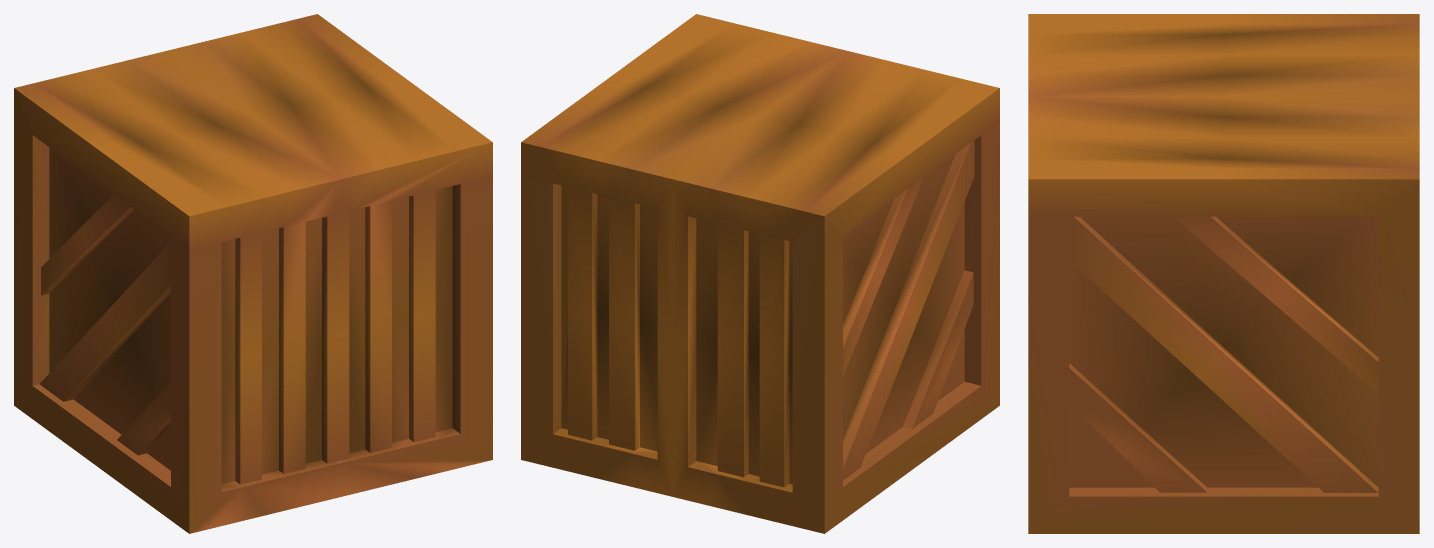
The picture shows the model from 3 angles, left to right: view 1: azimuth 30°, elevation 25°; view 2: azimuth 150°, elevation 25°; view 3: azimuth 270°, elevation 25°; orthographic projection. The views are drawn at different scales.
Visible parts, largest first — view 1: box_LOD0; view 2: box_LOD0; view 3: box_LOD0.
Part boxes in pixels (box(x1,y1,x2,y2)): box_LOD0: box(14, 14, 492, 533); box_LOD0: box(521, 14, 999, 533); box_LOD0: box(1028, 14, 1419, 533).
Size of what is drawn, in the model's own units: 0.6247 by 0.6247 by 0.6247.
